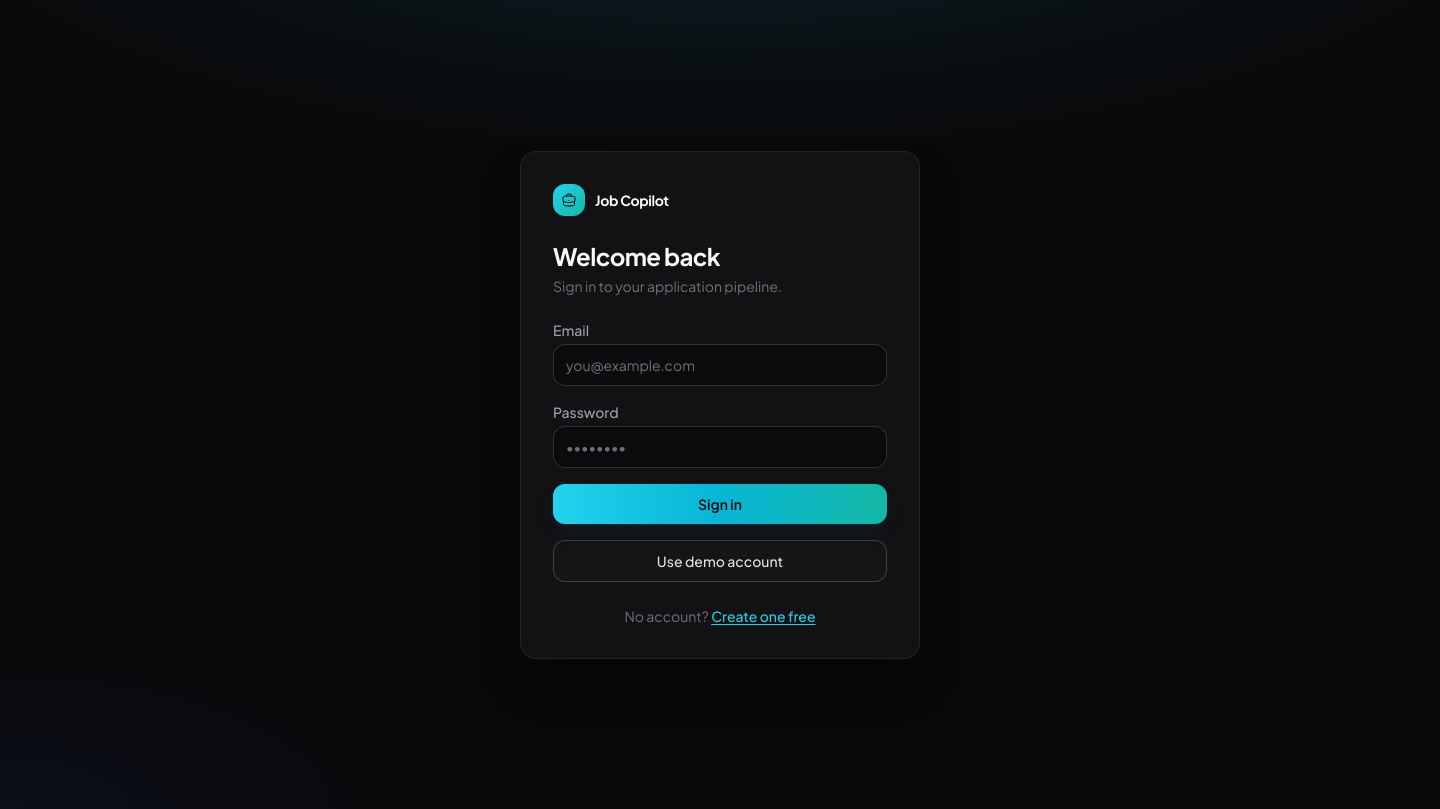
Frontend auth + job tracker flow › logs in and lands on the dashboard
This screenshot has width=1440, height=809.
Click the button with test id "login-demo". click: [720, 561]
box: top-left (553, 540), bottom-right (887, 582)
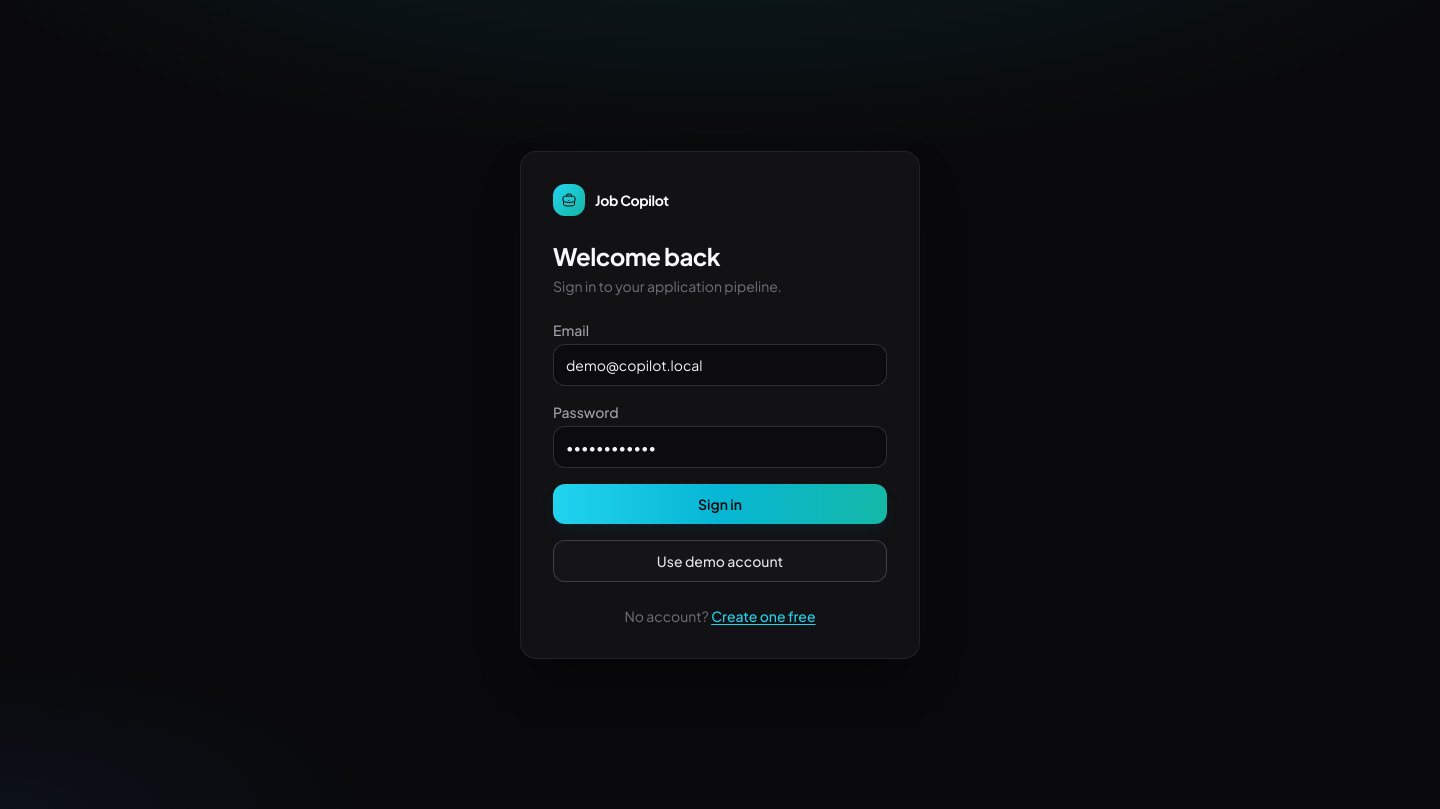
Click the button with test id "login-submit". click: [720, 504]
box: top-left (553, 484), bottom-right (887, 524)
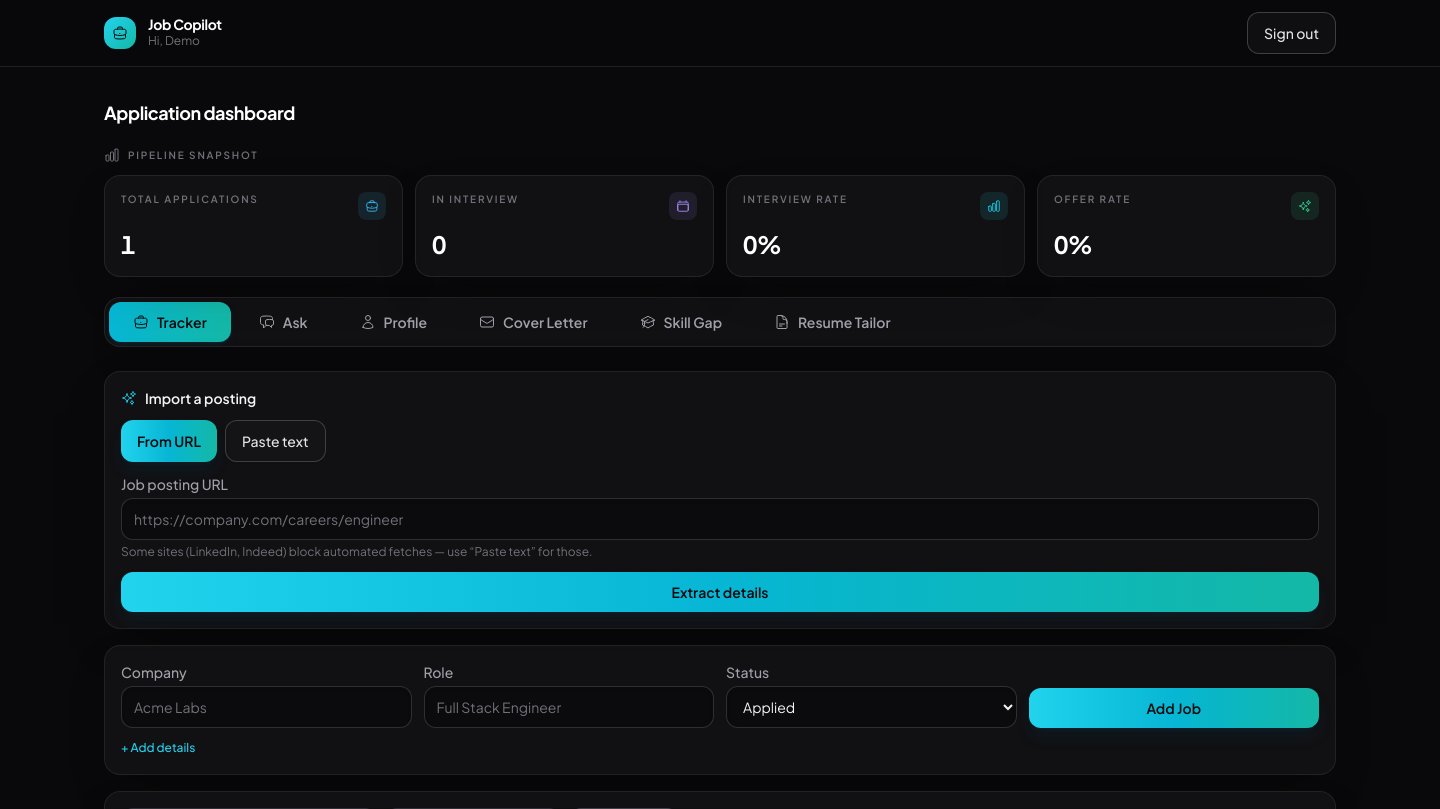
Expected: the heading "Application dashboard" is shown, top-left (104, 101), bottom-right (295, 124)
Expected: the button with test id "logout-button" reads "Sign out", top-left (1247, 12), bottom-right (1336, 54)
